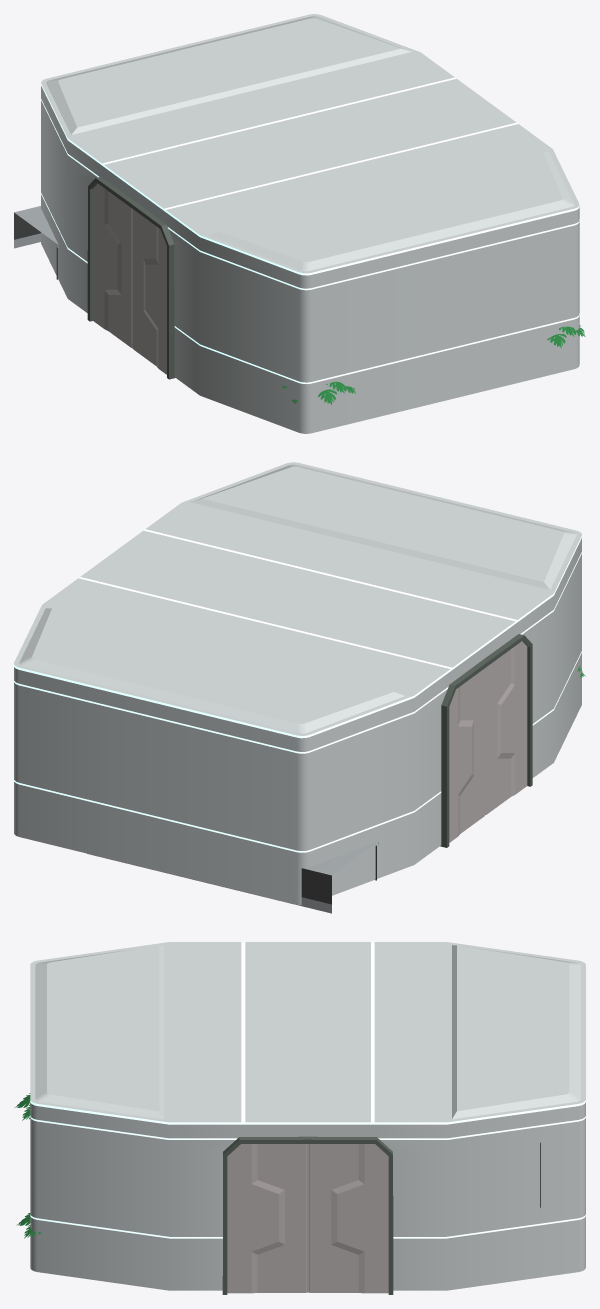
The picture shows the model from 3 angles, top to bottom: view 1: azimuth 30°, elevation 25°; view 2: azimuth 150°, elevation 25°; view 3: azimuth 270°, elevation 25°; orthographic projection. The views are drawn at different scales.
Parts seen in each view (by area): view 1: roof, room_wall, door.001, door_frame.001, sitting_table; view 2: roof, room_wall, door.001, door_frame.001, sitting_table; view 3: roof, room_wall, door, door_frame.
Part boxes in pixels (x1,y1,x2,y2): roof: [41, 14, 579, 273]; room_wall: [41, 83, 579, 433]; door.001: [93, 183, 166, 374]; door_frame.001: [87, 177, 175, 379]; sitting_table: [14, 206, 58, 279]; roof: [14, 462, 581, 735]; room_wall: [14, 536, 581, 905]; door.001: [449, 641, 527, 842]; door_frame.001: [440, 634, 532, 847]; sitting_table: [87, 841, 378, 913]; roof: [30, 942, 585, 1122]; room_wall: [30, 1100, 585, 1290]; door: [227, 1144, 388, 1293]; door_frame: [222, 1136, 393, 1294].
Size of the model in its own units: 4.75 by 2.06 by 6.16.
